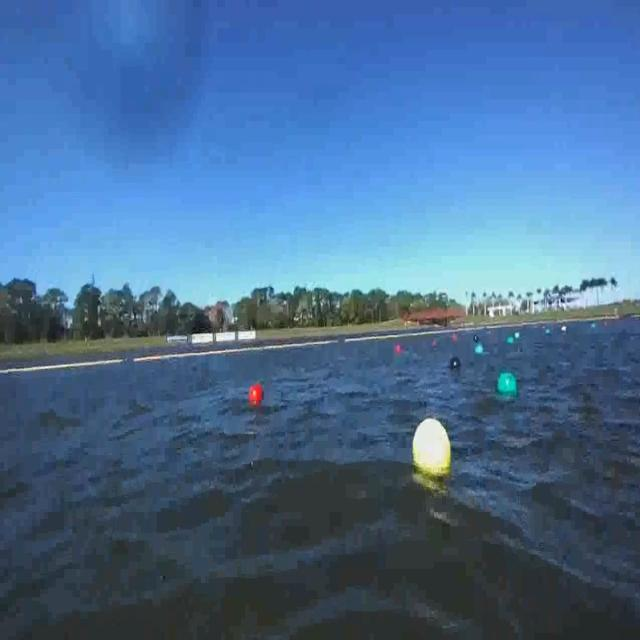green-buoy: (497, 371, 517, 394)
red-buoy: (249, 384, 263, 405)
yellow-buoy: (408, 417, 454, 481)
